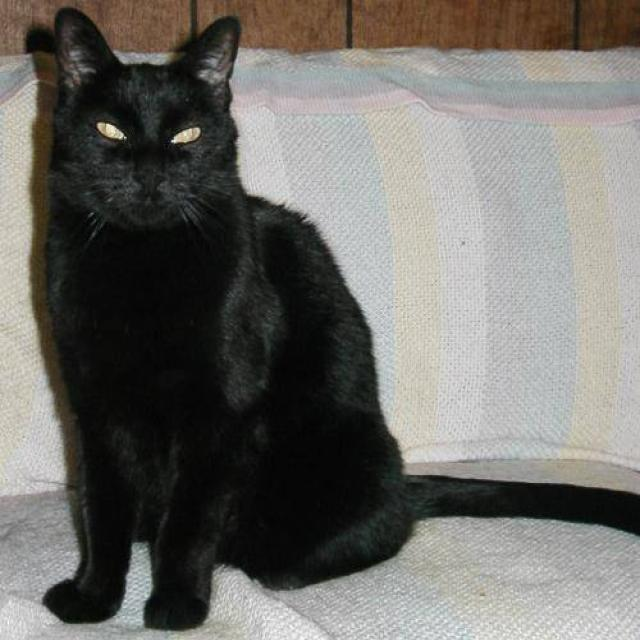cat: (38, 5, 639, 632)
